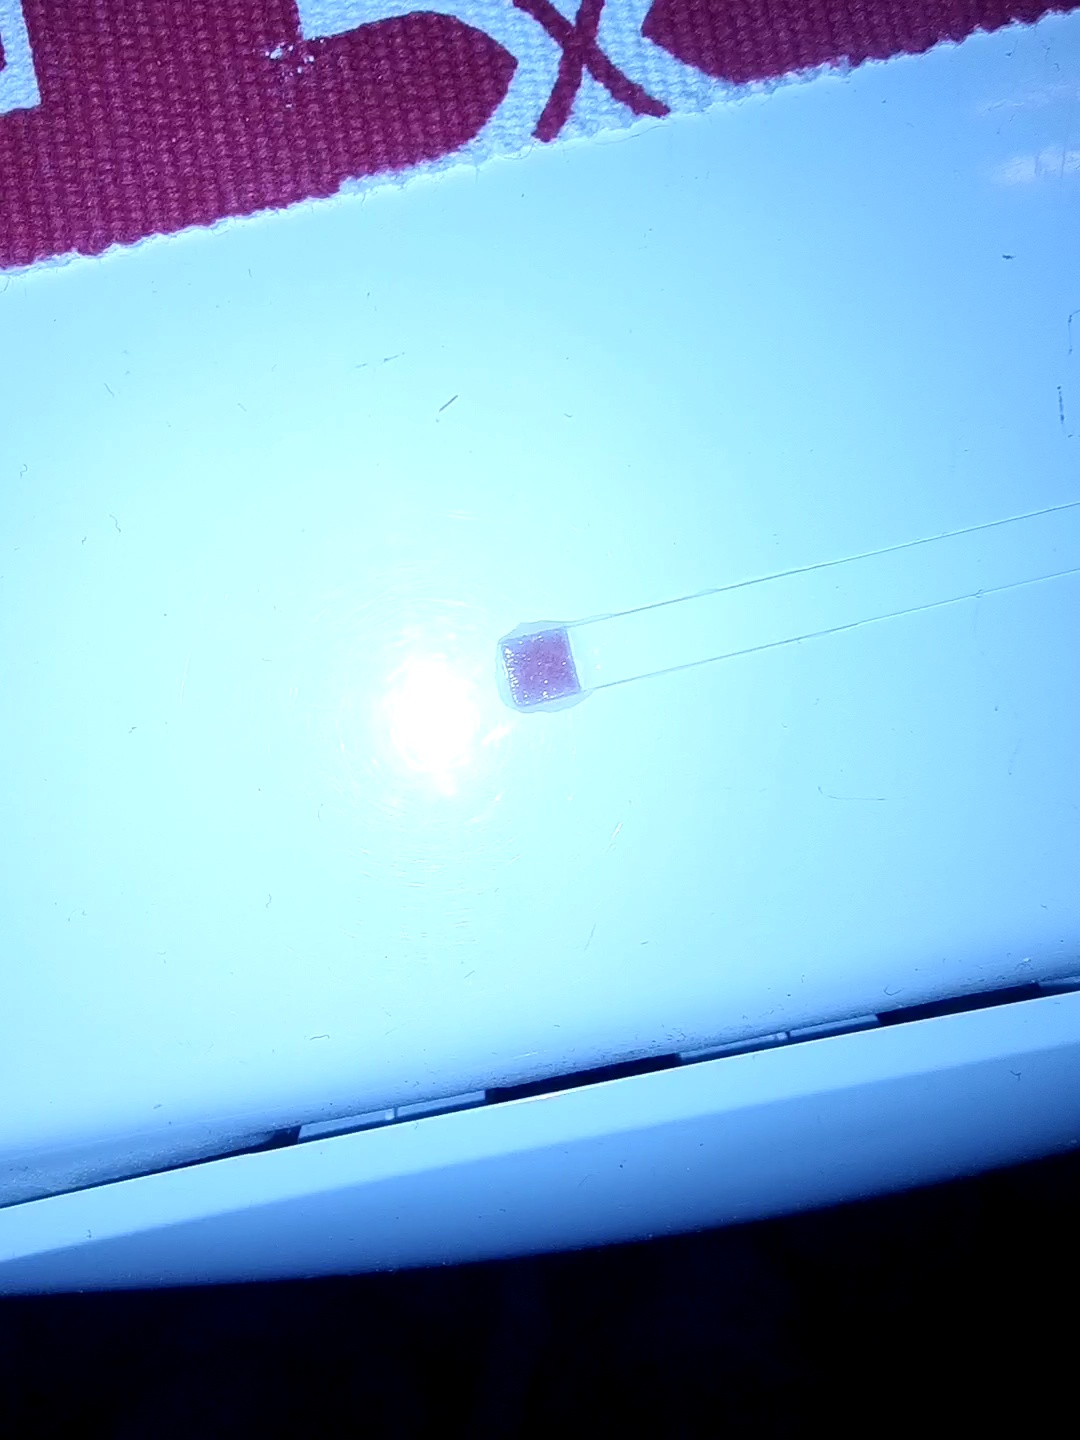keto-tip: (497, 625, 587, 714)
